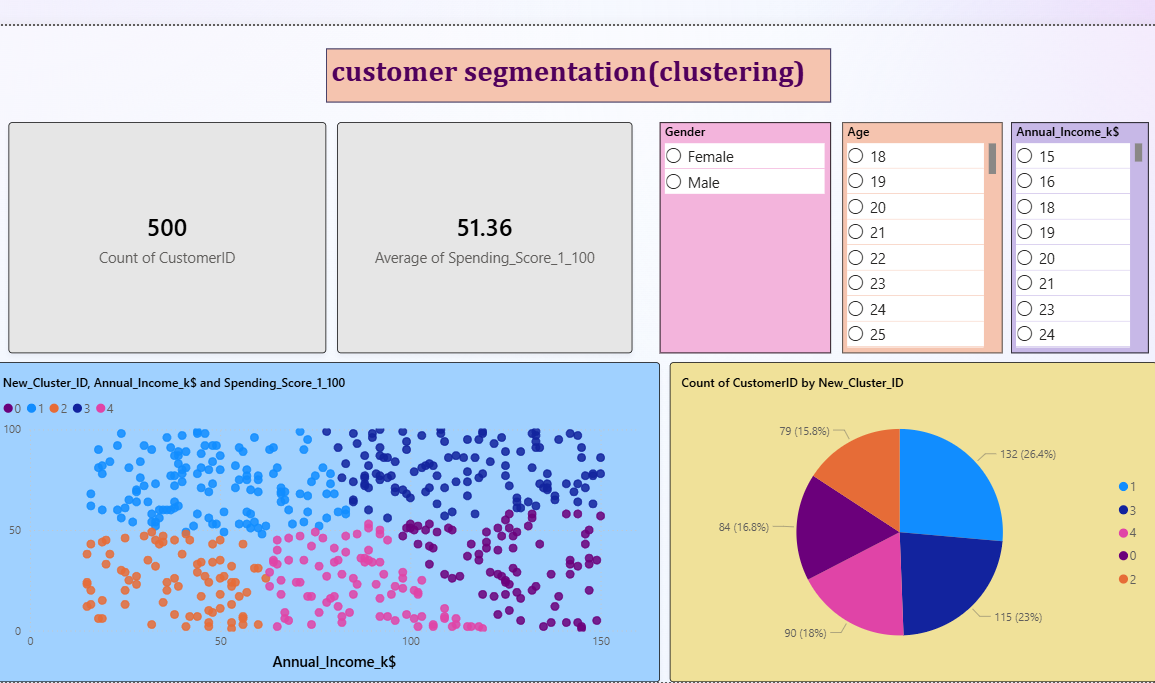

This screenshot's page, from the dashboard's own definition file:
{"tool":"powerbi","page":{"name":"Page 1","canvas":[1280,720],"ordinal":0},"visuals":[{"type":"scatterChart","fields":{"X":["final_segmented_data.Annual_Income_k$"],"Y":["final_segmented_data.Spending_Score_1_100"],"Series":["final_segmented_data.New_Cluster_ID"]},"box":[0,369.1,734.1,351.3],"z":0},{"type":"pieChart","fields":{"Category":["final_segmented_data.New_Cluster_ID"],"Y":["CountNonNull(final_segmented_data.CustomerID)"]},"box":[745.1,369.1,535.2,351.3],"z":1},{"type":"card","fields":{"Values":["CountNonNull(final_segmented_data.CustomerID)"]},"box":[19.2,105.7,348.5,253.9],"z":2},{"type":"card","fields":{"Values":["Avg(final_segmented_data.Spending_Score_1_100)"]},"box":[380.1,105.7,323.8,253.9],"z":3},{"type":"listSlicer","fields":{"Values":["final_segmented_data.Gender"]},"box":[734.1,105.7,188,253.9],"z":4},{"type":"listSlicer","fields":{"Values":["final_segmented_data.Age"]},"box":[934.5,105.7,175.6,253.9],"z":5},{"type":"listSlicer","fields":{"Values":["final_segmented_data.Annual_Income_k$"]},"box":[1119.7,105.7,150.9,253.9],"z":6},{"type":"textbox","box":[367.8,24.7,554.4,59],"z":7}]}

Visuals, with their boxes in screenshot pixels (x1, y1, x2, y2):
scatterChart - final_segmented_data.Annual_Income_k$ x final_segmented_data.Spending_Score_1_100: <bbox>0, 362, 659, 682</bbox>
pieChart - final_segmented_data.New_Cluster_ID x CountNonNull(final_segmented_data.CustomerID): <bbox>669, 362, 1154, 682</bbox>
card - CountNonNull(final_segmented_data.CustomerID): <bbox>0, 119, 321, 353</bbox>
card - Avg(final_segmented_data.Spending_Score_1_100): <bbox>333, 119, 631, 353</bbox>
listSlicer - final_segmented_data.Gender: <bbox>659, 119, 833, 353</bbox>
listSlicer - final_segmented_data.Age: <bbox>844, 119, 1006, 353</bbox>
listSlicer - final_segmented_data.Annual_Income_k$: <bbox>1015, 119, 1154, 353</bbox>
textbox: <bbox>321, 44, 833, 98</bbox>
